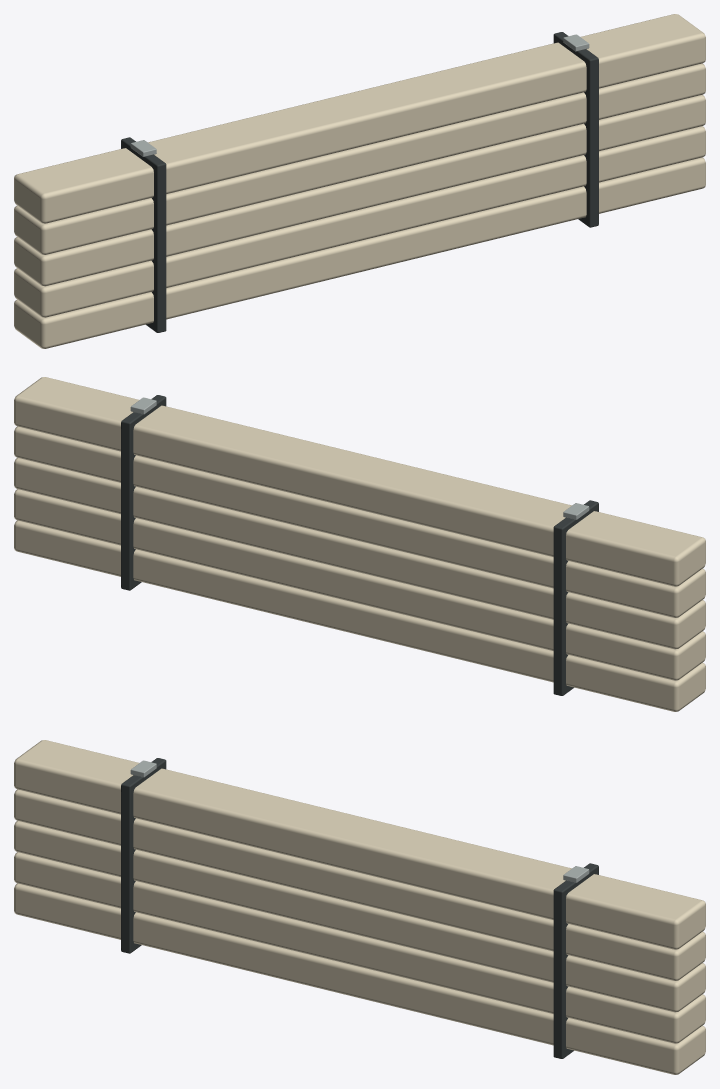
File: canal-boats-and-lock-operations-canal-boats-and-lock-o-0ed13e3d__31656.glb
3 renders of one model, top to bottom at view 1: azimuth 30°, elevation 25°; view 2: azimuth 150°, elevation 25°; view 3: azimuth 330°, elevation 25°, orthographic.
Parts seen in each view (by area): view 1: canal-boats-and-lock-operations-replacement-gate-plank-bundl (×3); view 2: canal-boats-and-lock-operations-replacement-gate-plank-bundl (×3); view 3: canal-boats-and-lock-operations-replacement-gate-plank-bundl (×3).
Part boxes in pixels (box(x1,y1,x2,y2)): canal-boats-and-lock-operations-replacement-gate-plank-bundl (×3): box(14, 14, 705, 348); canal-boats-and-lock-operations-replacement-gate-plank-bundl (×3): box(14, 377, 705, 711); canal-boats-and-lock-operations-replacement-gate-plank-bundl (×3): box(14, 740, 705, 1074).
Bounding box in the file's own units: 2.4 × 0.5981 × 0.23.
